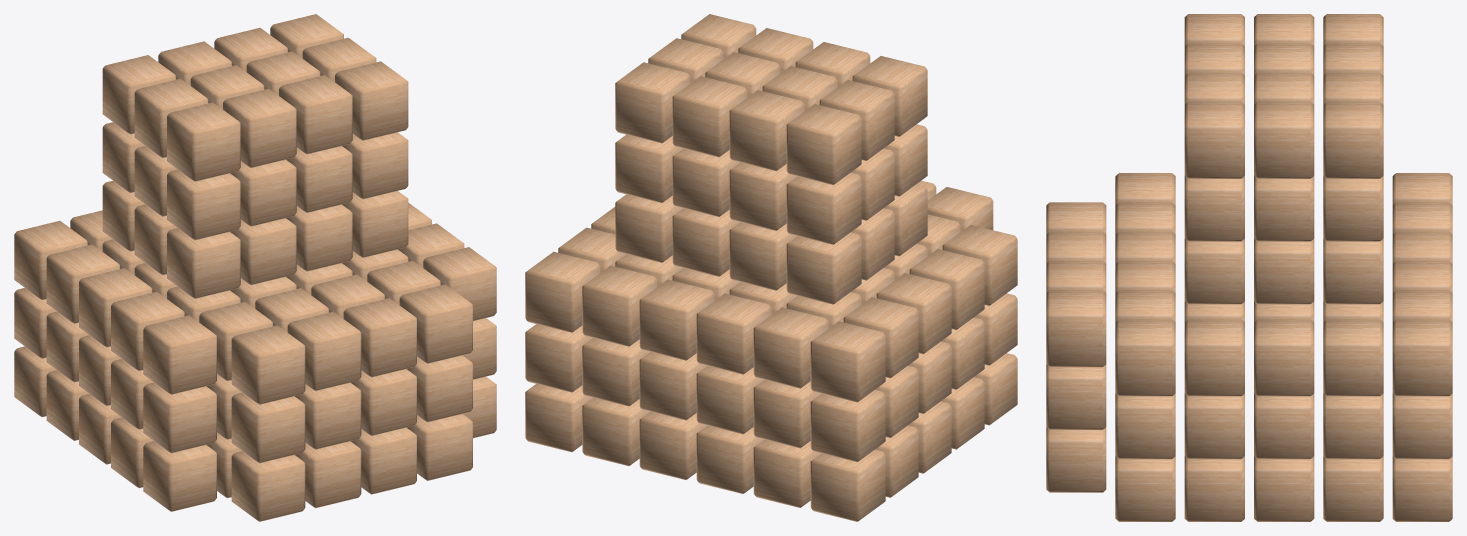
The model's file is level_83.fbx.
3 renders of one model, left to right at view 1: azimuth 30°, elevation 25°; view 2: azimuth 150°, elevation 25°; view 3: azimuth 270°, elevation 25°, orthographic. The views are drawn at different scales.
Parts seen in each view (by area): view 1: Cube.061, Cube.068, Cube.136, Cube.013, Cube.037, Cube.088, Cube.044, Cube.112, Cube.020, Cube.055, Cube.127, Cube.142 (+56 smaller); view 2: Cube.138, Cube.072, Cube.024, Cube.048, Cube.090, Cube.114, Cube.132, Cube.129, Cube.111, Cube.144, Cube.054, Cube.120 (+51 smaller); view 3: Cube.104, Cube.110, Cube.111, Cube.127, Cube.128, Cube.115, Cube.129, Cube.105, Cube.109, Cube.093, Cube.094, Cube.123 (+40 smaller).
Boxes of the visible parts, x1,y1,x2,y2 form: Cube.061: (231, 325, 305, 404); Cube.068: (143, 315, 216, 394); Cube.136: (167, 102, 240, 181); Cube.013: (231, 451, 305, 521); Cube.037: (231, 392, 305, 463); Cube.088: (167, 228, 240, 298); Cube.044: (143, 382, 216, 453); Cube.112: (167, 169, 240, 240); Cube.020: (143, 441, 216, 511); Cube.055: (287, 311, 361, 390); Cube.127: (335, 61, 408, 140); Cube.142: (279, 75, 352, 154); Cube.138: (786, 104, 861, 184); Cube.072: (810, 321, 885, 402); Cube.024: (810, 449, 885, 521); Cube.048: (810, 390, 885, 461); Cube.090: (786, 232, 861, 304); Cube.114: (786, 172, 861, 244); Cube.132: (729, 90, 804, 171); Cube.129: (615, 62, 690, 143); Cube.111: (525, 251, 600, 332); Cube.144: (672, 76, 747, 157); Cube.054: (639, 279, 714, 360); Cube.120: (582, 265, 657, 346); Cube.104: (1115, 319, 1175, 396); Cube.110: (1323, 319, 1383, 396); Cube.111: (1392, 319, 1452, 396); Cube.127: (1184, 101, 1244, 178); Cube.128: (1254, 101, 1314, 178); Cube.115: (1046, 290, 1106, 367); Cube.129: (1323, 101, 1383, 178); Cube.105: (1184, 319, 1244, 396); Cube.109: (1254, 319, 1314, 396); Cube.093: (1184, 393, 1244, 459); Cube.094: (1254, 393, 1314, 459); Cube.123: (1323, 238, 1383, 304).
Size of the model in its own units: 13.5 by 13.5 by 13.5.
